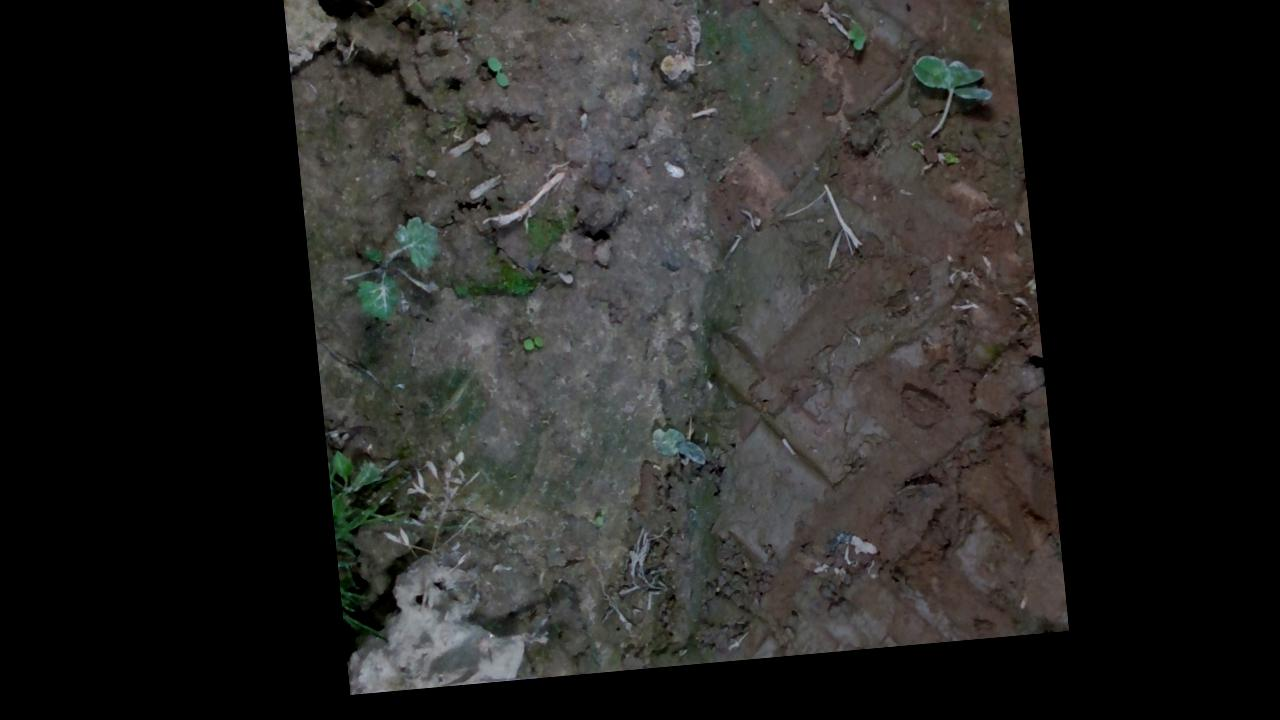weed: (484, 62, 509, 98), (514, 344, 541, 360)
